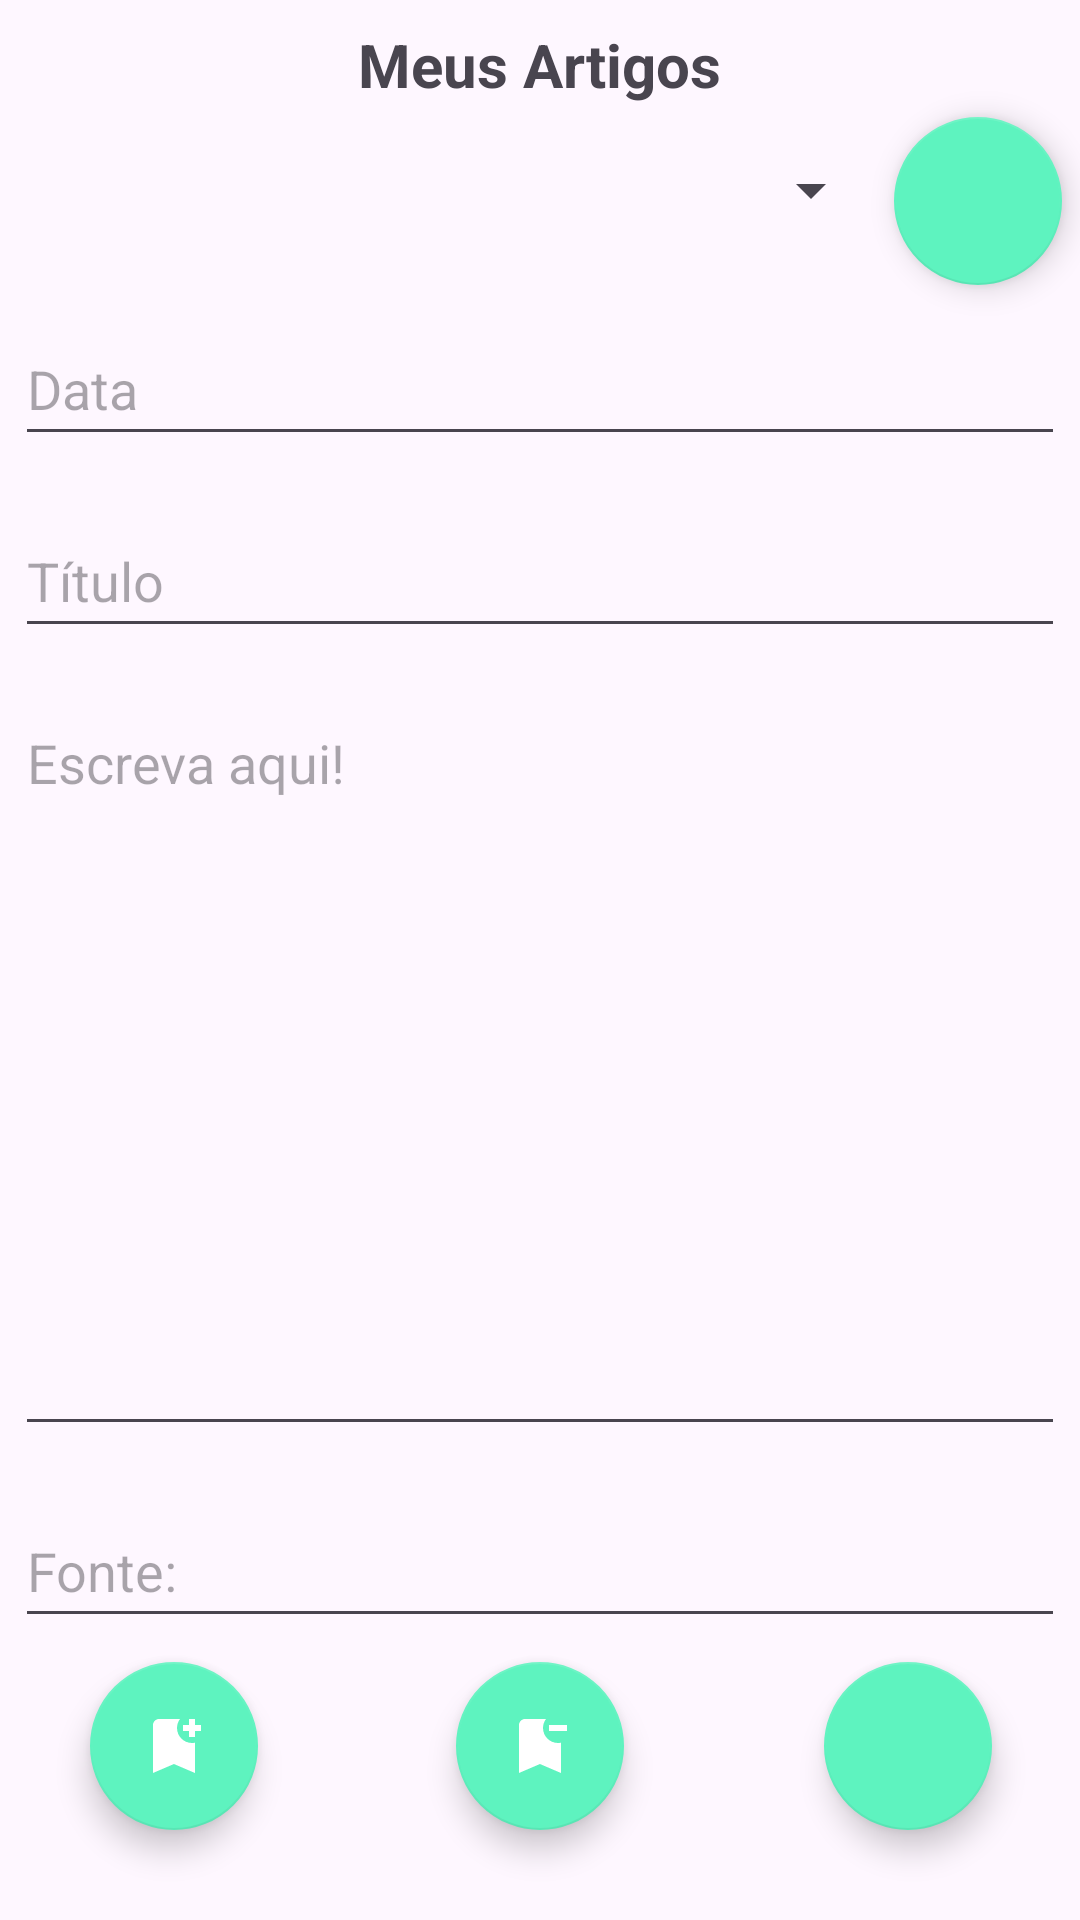

Icon bounding boxes for this 1080 × 1920 phone screenshot, format [x1, y1, x2, y2]:
add page: [90, 1662, 258, 1830]
bookmark remove: [456, 1662, 624, 1830]
